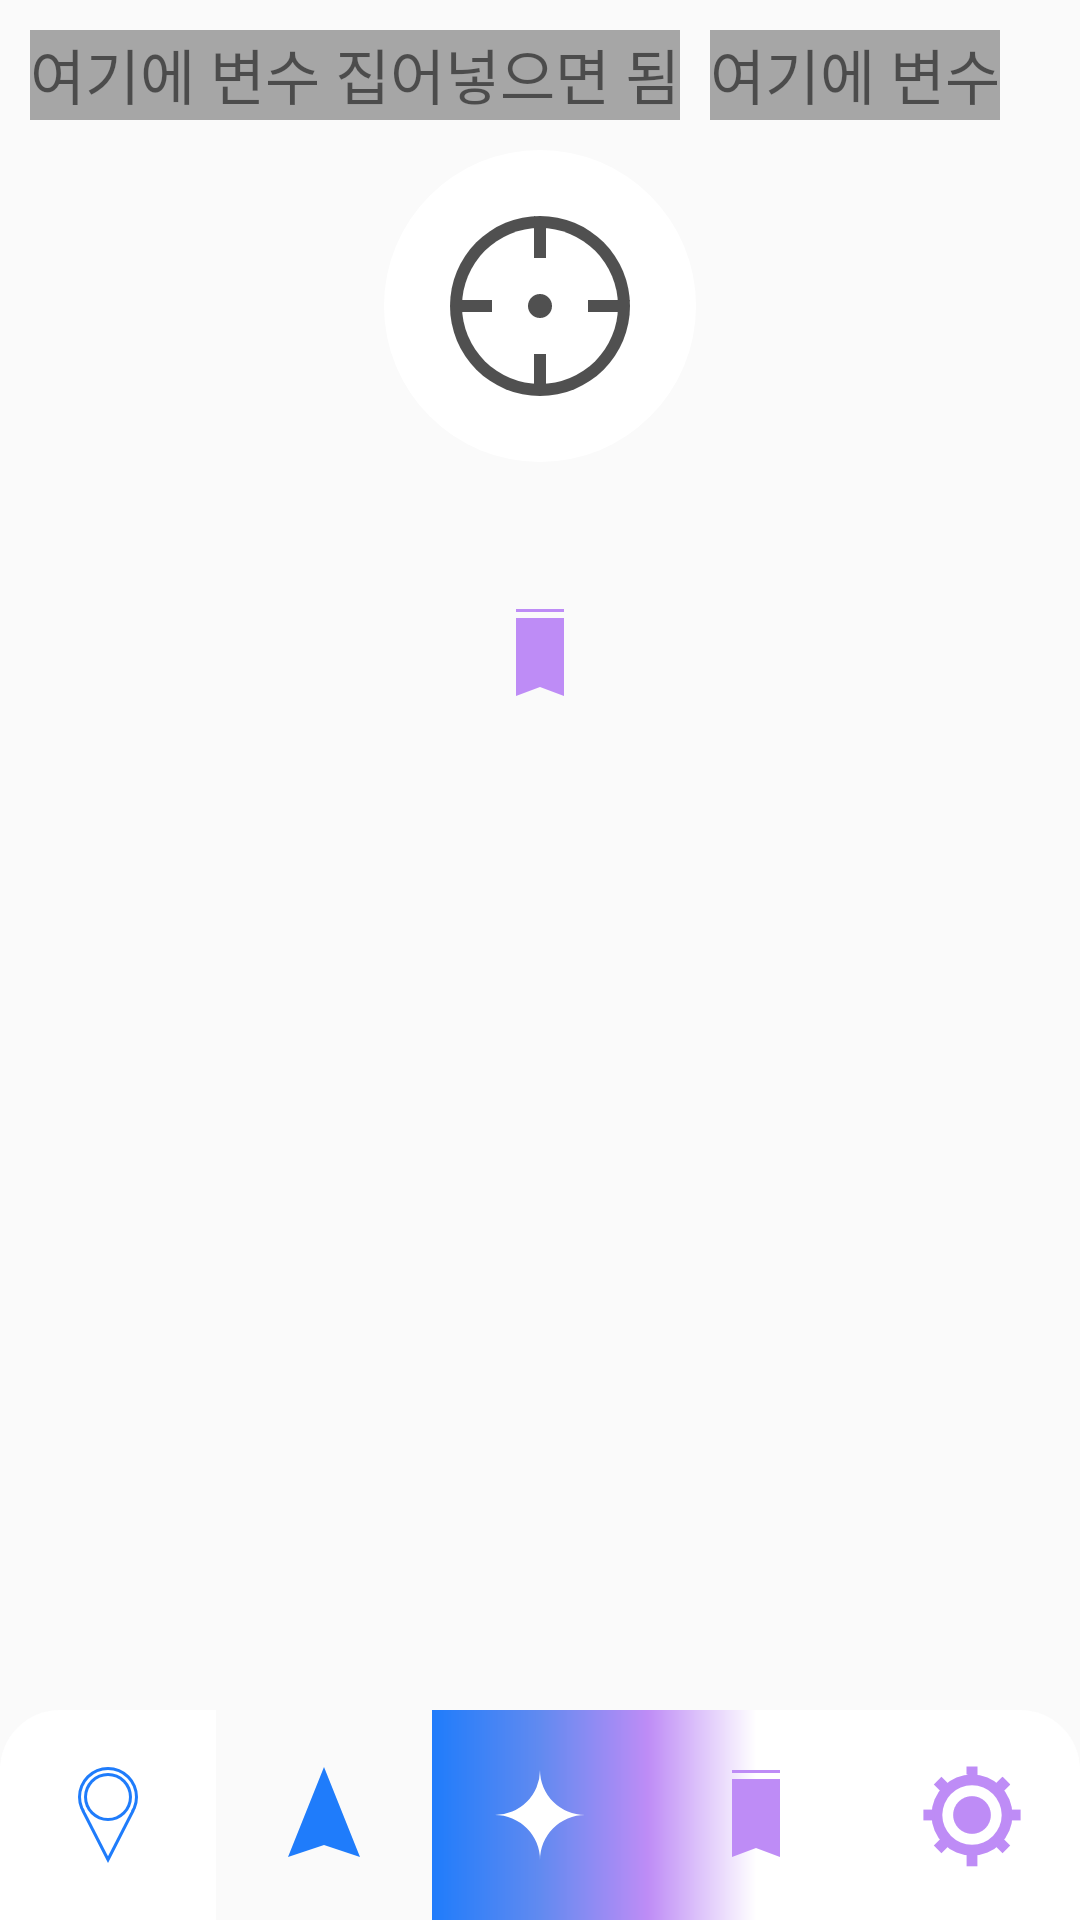

Where to tap for icons on this 1080x1920 app screen, as [x,y]:
AI: [540,1815]
Explore: [108,1815]
GO: [324,1812]
location toggle: [540,306]
설정: [972,1816]
